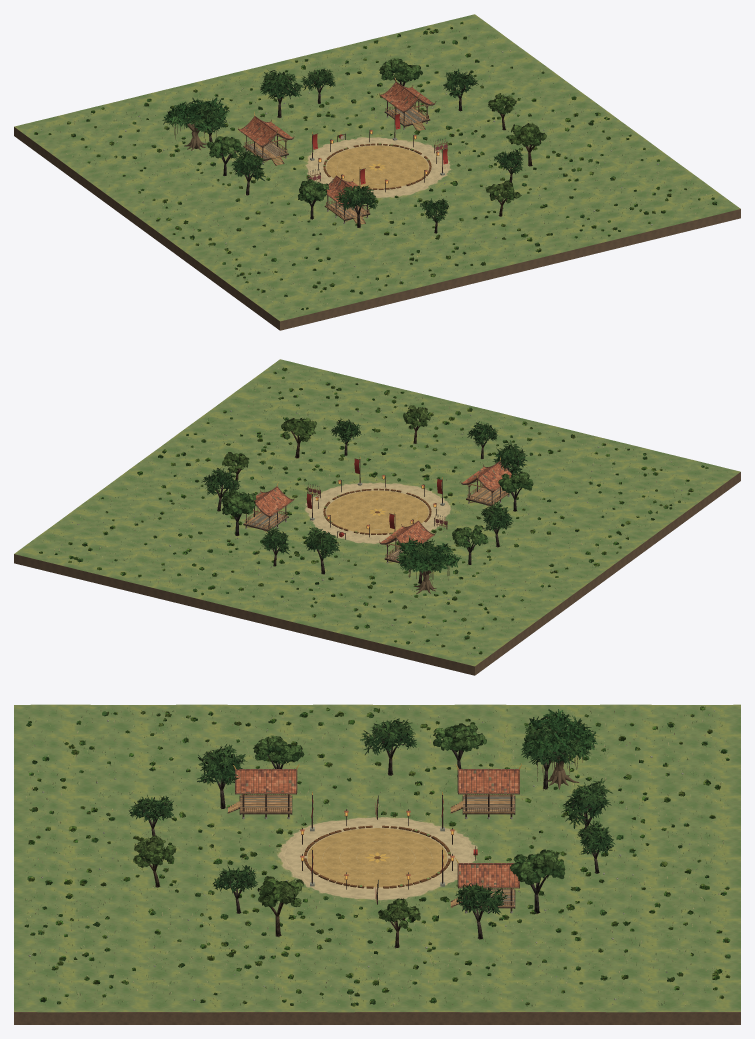
Rendered from duel-arena.glb.
3 views of the same model, one above another, from view 1: azimuth 30°, elevation 25°; view 2: azimuth 150°, elevation 25°; view 3: azimuth 270°, elevation 25° (orthographic). The views are drawn at different scales.
Parts seen in each view (by area): view 1: Ground - varied meadow | grass, Soil foundation | earth, Organic tree foliage | real bushes, Courtyard - raked sand floor | sand_raked, Tracks - arena apron | path, Roof / overlapping clay tiles | roof, Organic tree foliage | capital-banyan-crown, Fine meadow grass blades | grassblade, Organic tree foliage | mango-322.001, Fine meadow grass blades | grassdry, Feathered road shoulders | path_edge, Fine meadow grass blades | grassblade2 (+9 smaller); view 2: Ground - varied meadow | grass, Soil foundation | earth, Organic tree foliage | real bushes, Courtyard - raked sand floor | sand_raked, Tracks - arena apron | path, Roof / overlapping clay tiles | roof, Organic tree foliage | capital-banyan-crown, Fine meadow grass blades | grassblade2, Fine meadow grass blades | grassblade, Fine meadow grass blades | grassdry, Feathered road shoulders | path_edge, Organic tree foliage | rain-315 (+7 smaller); view 3: Ground - varied meadow | grass, Soil foundation | earth, Organic tree foliage | real bushes, Courtyard - raked sand floor | sand_raked, Tracks - arena apron | path, Roof / overlapping clay tiles | roof, Organic tree foliage | capital-banyan-crown, Fine meadow grass blades | grassblade2, Fine meadow grass blades | grassblade, Fine meadow grass blades | grassdry, Feathered road shoulders | path_edge, Organic tree foliage | mango-322.001 (+22 smaller).
Part boxes in pixels (x1,y1,x2,y2): Ground - varied meadow | grass: [14, 14, 740, 321]; Soil foundation | earth: [14, 127, 740, 330]; Organic tree foliage | real bushes: [34, 21, 716, 310]; Courtyard - raked sand floor | sand_raked: [326, 145, 428, 188]; Tracks - arena apron | path: [311, 139, 445, 195]; Roof / overlapping clay tiles | roof: [240, 83, 433, 203]; Organic tree foliage | capital-banyan-crown: [162, 97, 229, 131]; Fine meadow grass blades | grassblade: [39, 26, 712, 315]; Organic tree foliage | mango-322.001: [260, 69, 304, 99]; Fine meadow grass blades | grassdry: [56, 24, 707, 310]; Feathered road shoulders | path_edge: [305, 136, 452, 198]; Fine meadow grass blades | grassblade2: [42, 30, 710, 306]; Ground - varied meadow | grass: [14, 359, 740, 666]; Soil foundation | earth: [14, 472, 740, 675]; Organic tree foliage | real bushes: [39, 367, 708, 654]; Courtyard - raked sand floor | sand_raked: [326, 490, 428, 533]; Tracks - arena apron | path: [310, 484, 446, 541]; Roof / overlapping clay tiles | roof: [255, 463, 511, 544]; Organic tree foliage | capital-banyan-crown: [396, 537, 461, 572]; Fine meadow grass blades | grassblade2: [44, 370, 713, 653]; Fine meadow grass blades | grassblade: [43, 372, 705, 654]; Fine meadow grass blades | grassdry: [48, 366, 703, 654]; Feathered road shoulders | path_edge: [304, 482, 453, 543]; Organic tree foliage | rain-315: [221, 489, 256, 517]; Ground - varied meadow | grass: [14, 704, 740, 1012]; Soil foundation | earth: [14, 1012, 740, 1024]; Organic tree foliage | real bushes: [24, 706, 730, 1006]; Courtyard - raked sand floor | sand_raked: [307, 828, 447, 887]; Tracks - arena apron | path: [285, 820, 469, 897]; Roof / overlapping clay tiles | roof: [236, 770, 518, 886]; Organic tree foliage | capital-banyan-crown: [521, 709, 598, 757]; Fine meadow grass blades | grassblade2: [25, 707, 728, 1006]; Fine meadow grass blades | grassblade: [26, 707, 728, 1006]; Fine meadow grass blades | grassdry: [26, 707, 728, 1005]; Feathered road shoulders | path_edge: [276, 816, 479, 901]; Organic tree foliage | mango-322.001: [561, 778, 612, 828].
Size of the model in its own units: 120 by 13.97 by 120.
32 materials, 32 textured.
